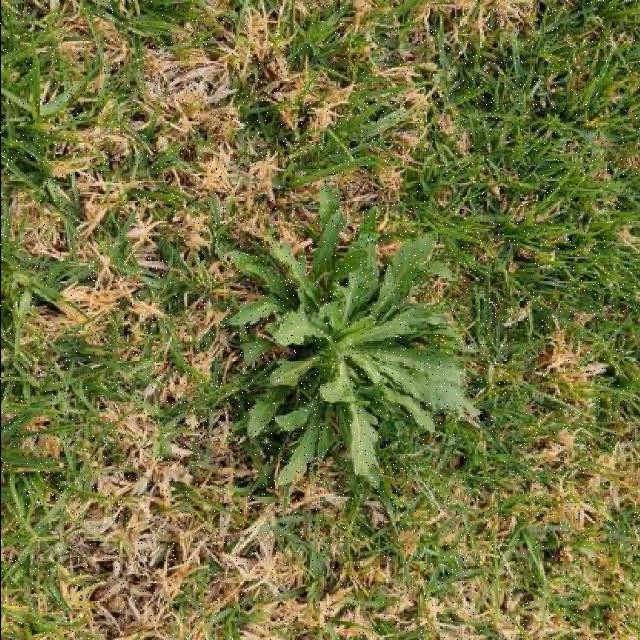weed: (227, 189, 465, 486)
